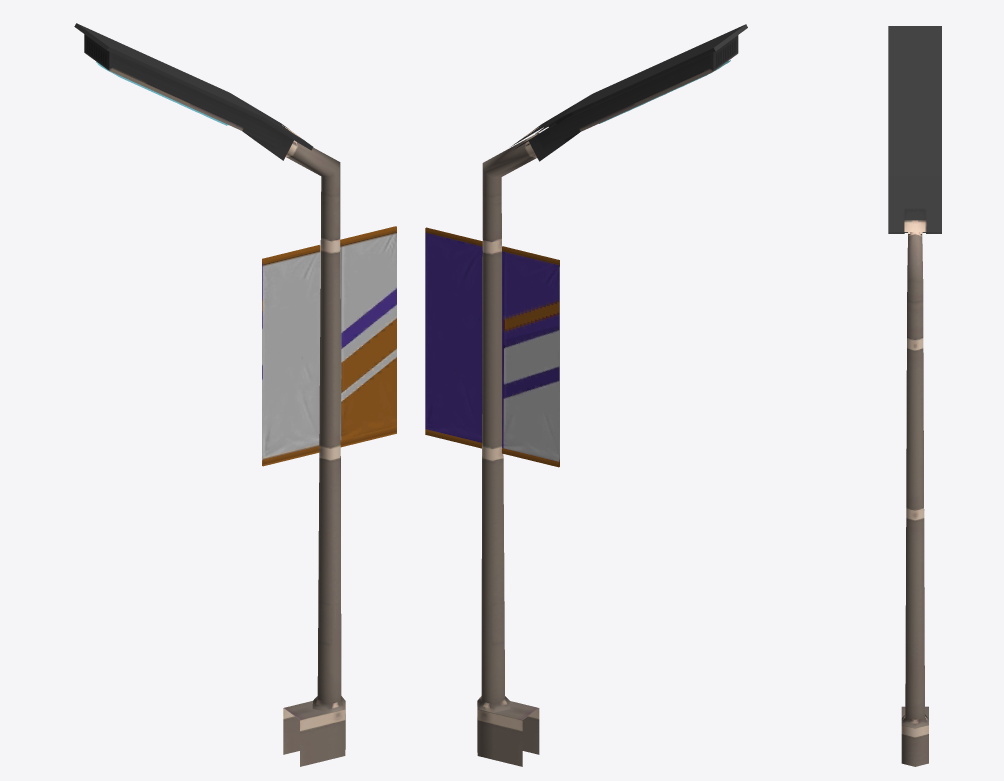
File: pro_streetlight_banner.fbx
3 renders of one model, left to right at view 1: azimuth 30°, elevation 25°; view 2: azimuth 150°, elevation 25°; view 3: azimuth 270°, elevation 25°, orthographic. The views are drawn at different scales.
Visible parts, largest first — view 1: pro_streetlight_banner; view 2: pro_streetlight_banner; view 3: pro_streetlight_banner.
Part boxes in pixels (x1,y1,x2,y2): pro_streetlight_banner: [74, 23, 396, 766]; pro_streetlight_banner: [425, 24, 747, 766]; pro_streetlight_banner: [888, 26, 941, 766].
Size of the model in its own units: 728 by 1589 by 342.
